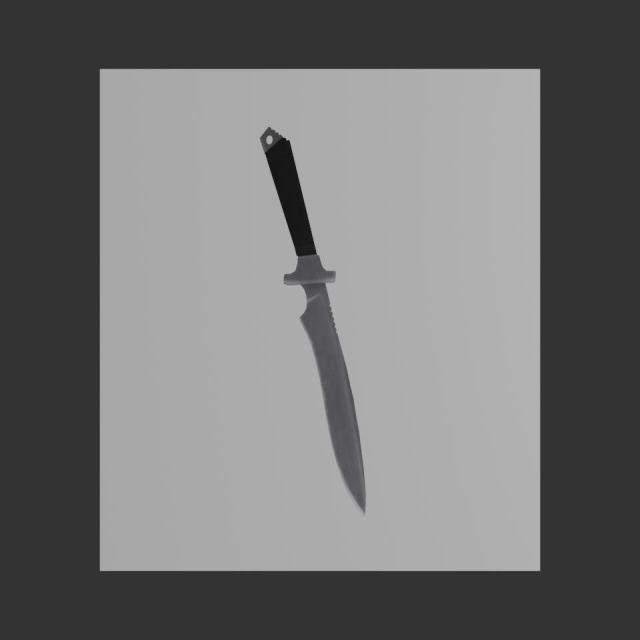knife: (260, 127, 317, 257)
